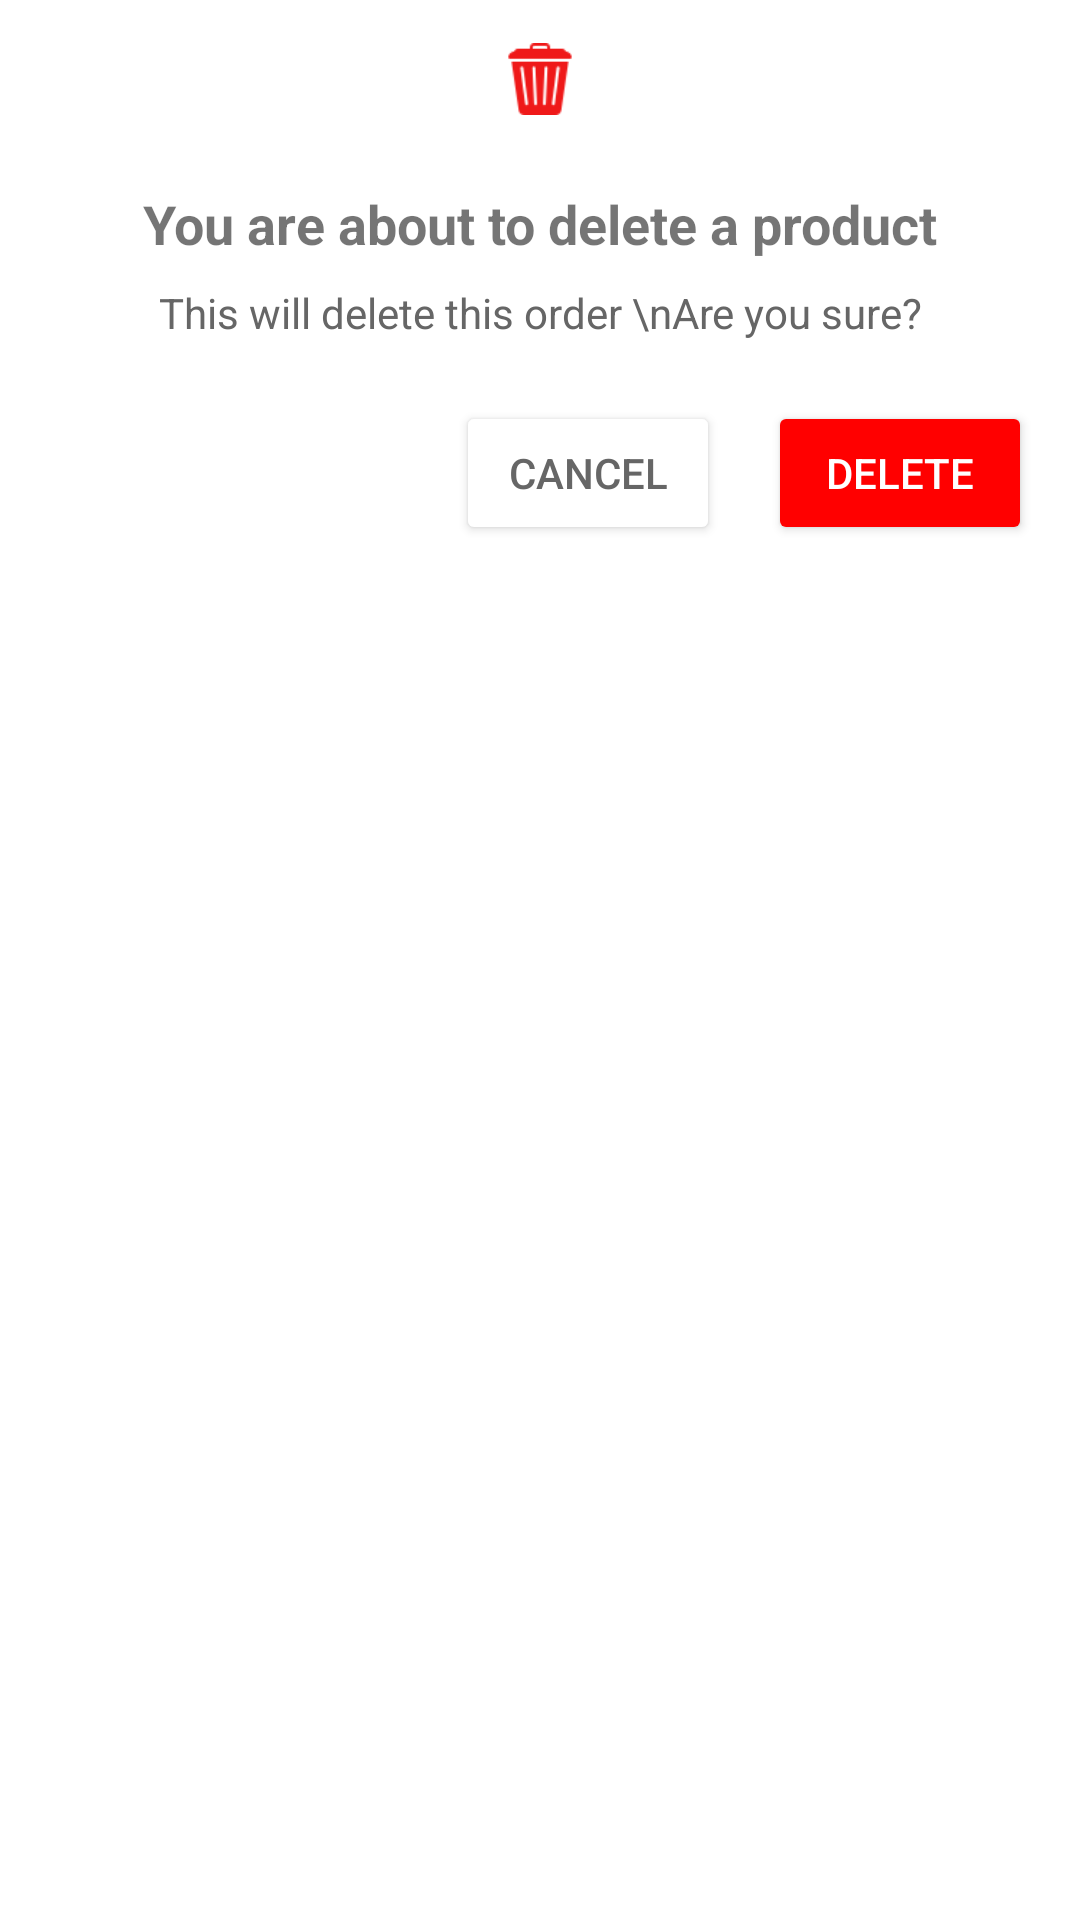

Icon click points for this 1080×1920 phone screenshot, format (x=x, y=y):
bin: (x=540, y=79)
